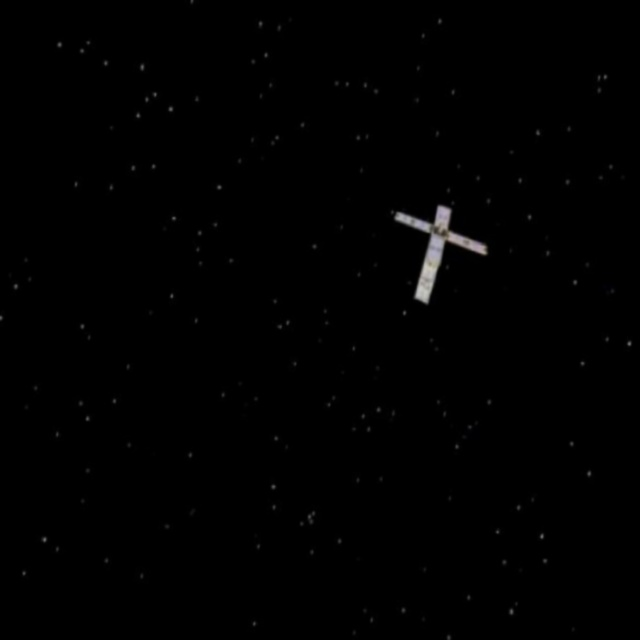medium_debris: (365, 191, 501, 316)
